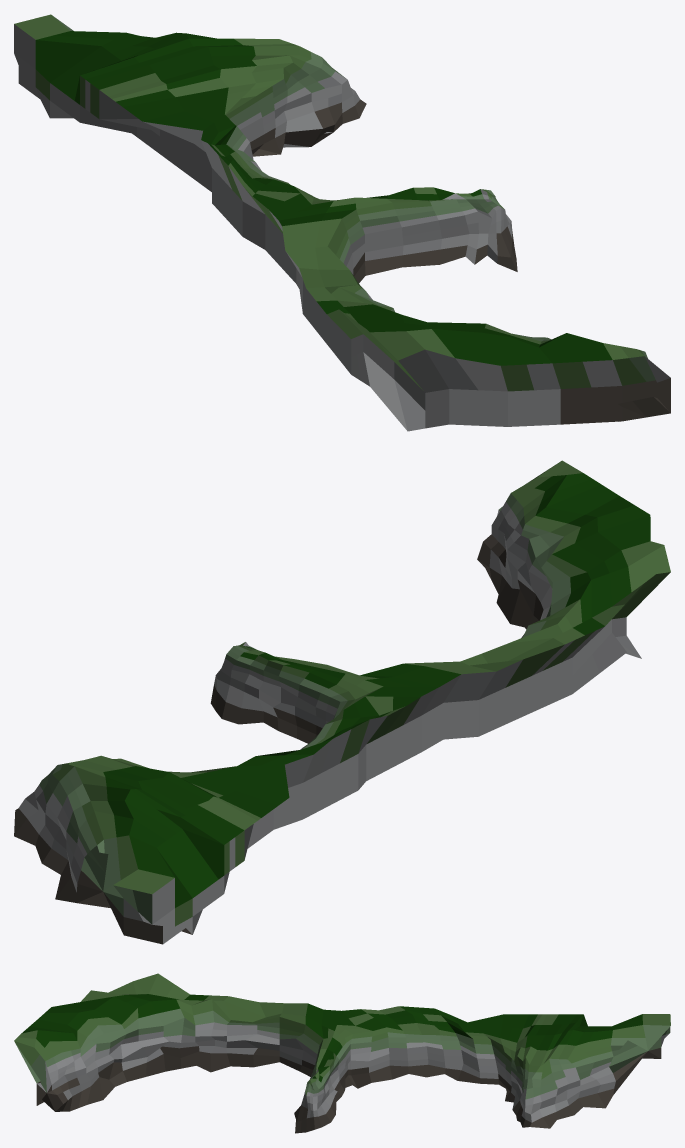
Rendered from rock walls .fbx.
The picture shows the model from 3 angles, top to bottom: view 1: azimuth 30°, elevation 25°; view 2: azimuth 150°, elevation 25°; view 3: azimuth 270°, elevation 25°; orthographic projection. The views are drawn at different scales.
Visible parts, largest first — view 1: Plane; view 2: Plane; view 3: Plane.
Part boxes in pixels (left/top/right/bottom): Plane: left=14, top=14, right=670, bottom=431; Plane: left=14, top=460, right=670, bottom=944; Plane: left=14, top=973, right=670, bottom=1133.
Bounding box in the file's own units: 272 × 92.82 × 761.
